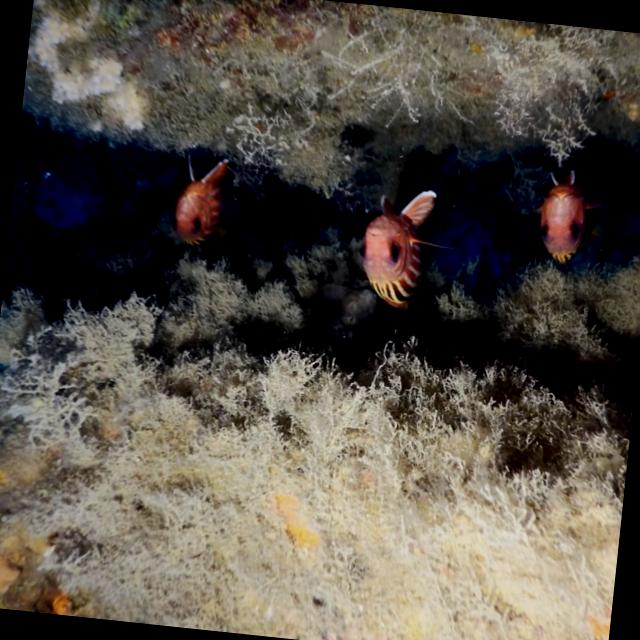Asker Baligi: (351, 180, 463, 314), (527, 163, 607, 268), (166, 147, 233, 249)
